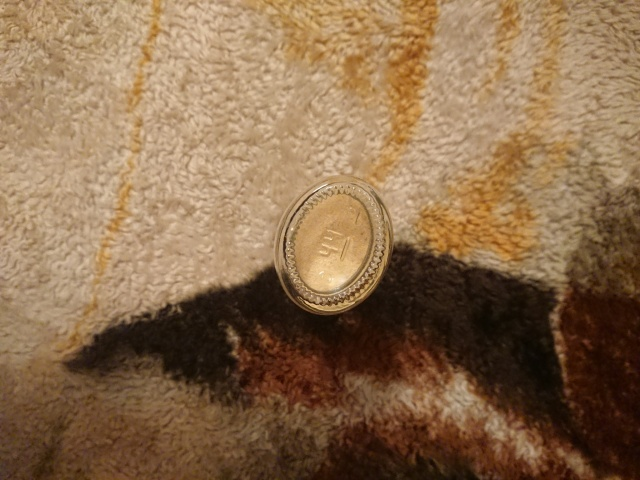Kotanyi Garlic Granules 70g: (270, 171, 396, 320)
